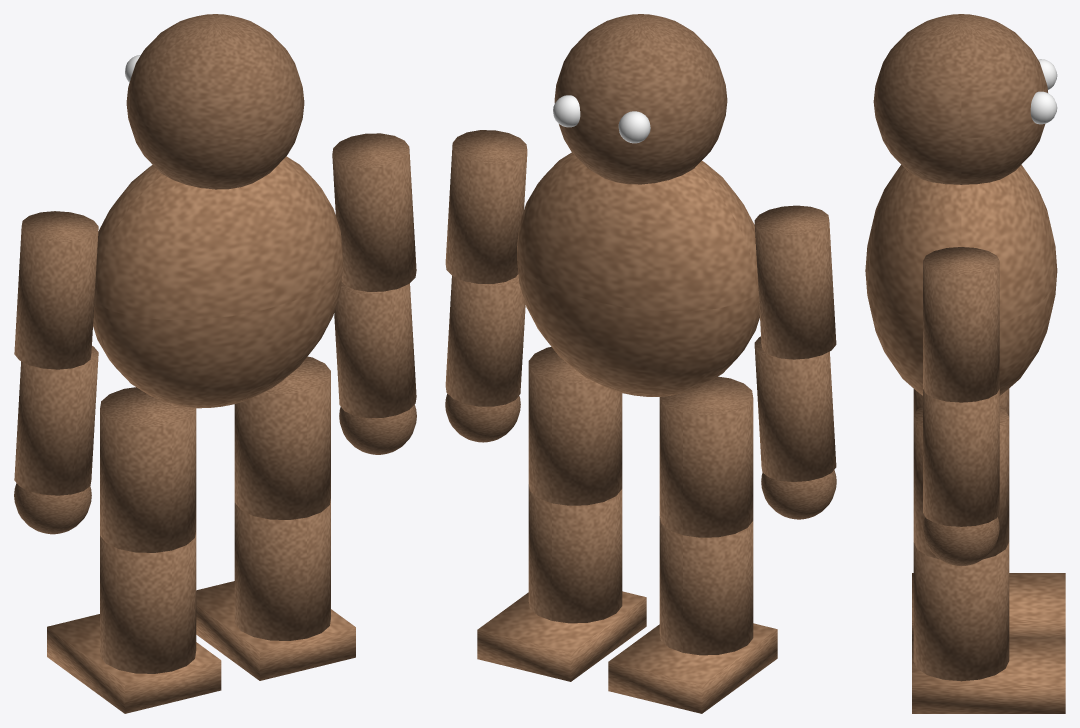
Rendered from bauchan.glb.
3 views of the same model, side by side, from view 1: azimuth 30°, elevation 25°; view 2: azimuth 150°, elevation 25°; view 3: azimuth 270°, elevation 25° (orthographic). The views are drawn at different scales.
Parts seen in each view (by area): view 1: Torso, Head, ThighL, ThighR, ShinR, ShinL, UpperArmL, UpperArmR, ForearmL, ForearmR, FootL, FootR (+2 smaller); view 2: Torso, Head, ThighL, ThighR, ShinL, ShinR, UpperArmL, UpperArmR, ForearmL, ForearmR, FootL, FootR (+4 smaller); view 3: Torso, Head, UpperArmR, ShinR, ForearmR, FootR, FootL, ThighR, HandR, Eye.001, ThighL, Eye.
Part boxes in pixels (x1,y1,x2,y2): Torso: (93, 156, 343, 408); Head: (126, 14, 304, 189); ThighL: (100, 387, 196, 552); ThighR: (234, 356, 330, 519); ShinR: (234, 499, 330, 640); ShinL: (100, 530, 196, 673); UpperArmL: (14, 211, 98, 369); UpperArmR: (332, 133, 416, 291); ForearmL: (14, 346, 98, 495); ForearmR: (334, 282, 416, 418); FootL: (47, 614, 221, 713); FootR: (196, 581, 355, 680); Torso: (517, 152, 759, 396); Head: (554, 14, 727, 184); ThighL: (659, 376, 753, 537); ThighR: (528, 347, 622, 505); ShinL: (659, 516, 753, 655); ShinR: (528, 484, 622, 623); UpperArmL: (754, 205, 836, 359); UpperArmR: (445, 130, 527, 283); ForearmL: (754, 336, 836, 481); ForearmR: (445, 274, 525, 406); FootL: (608, 623, 777, 713); FootR: (477, 591, 646, 681); Torso: (865, 164, 1057, 395); Head: (873, 14, 1047, 184); UpperArmR: (923, 247, 999, 402); ShinR: (913, 542, 1009, 681); ForearmR: (923, 389, 999, 526); FootR: (912, 637, 1065, 713); FootL: (912, 573, 1065, 637); ThighR: (913, 406, 1009, 559); HandR: (923, 517, 999, 566); Eye.001: (1030, 91, 1057, 124); ThighL: (913, 389, 1009, 416); Eye: (1038, 59, 1057, 89).
Bounding box in the file's own units: 0.6367 × 1 × 0.2852.
3 materials, 2 textured.
